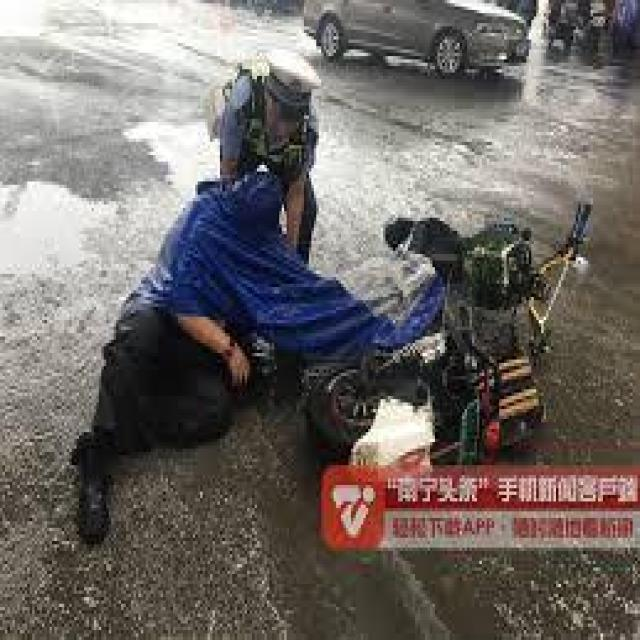fall: (69, 167, 289, 547)
nonfall: (211, 47, 329, 263)
